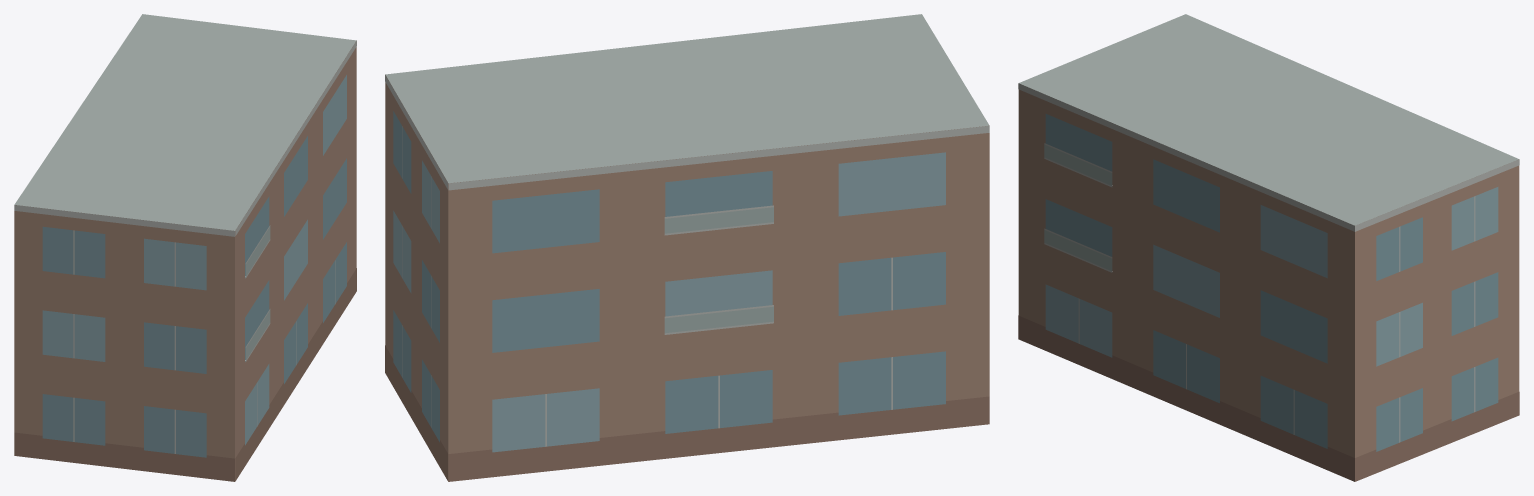
The model's file is survey-upis-32935452.glb.
3 renders of one model, left to right at view 1: azimuth 30°, elevation 25°; view 2: azimuth 150°, elevation 25°; view 3: azimuth 270°, elevation 25°, orthographic. The views are drawn at different scales.
Parts seen in each view (by area): view 1: survey-upis-32935452.tmp; view 2: survey-upis-32935452.tmp; view 3: survey-upis-32935452.tmp.
Part boxes in pixels (<box>): survey-upis-32935452.tmp: <box>14,14,356,481</box>; survey-upis-32935452.tmp: <box>385,14,989,481</box>; survey-upis-32935452.tmp: <box>1018,14,1519,481</box>.
Size of the model in its own units: 18.09 by 10.2 by 18.08.
